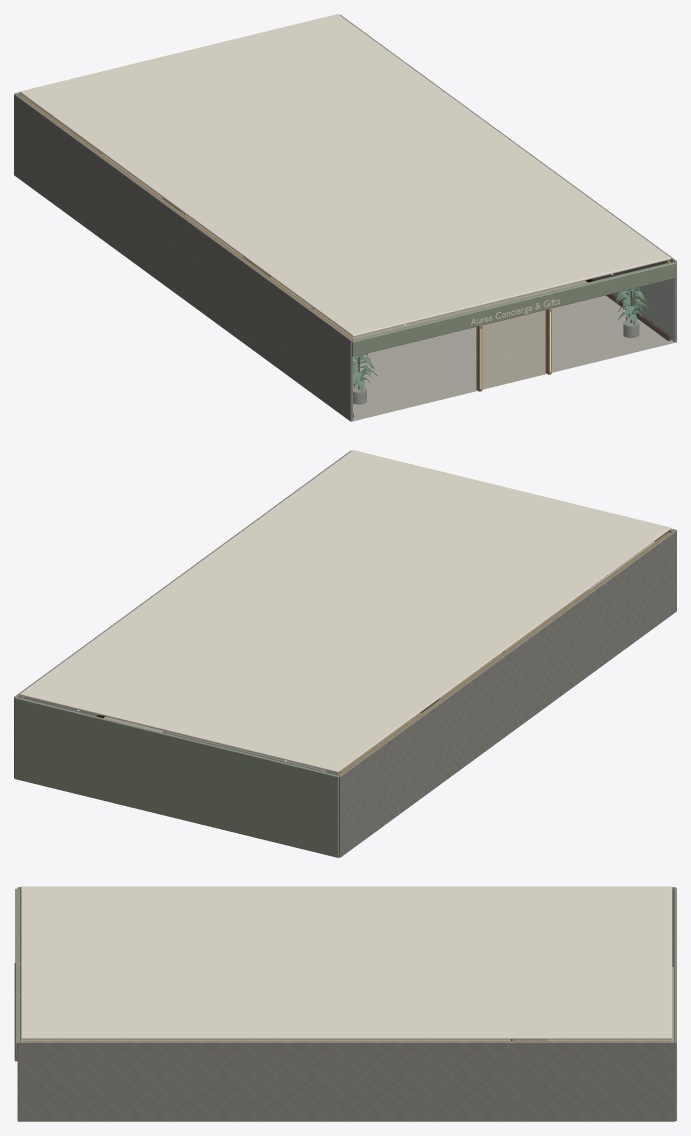
Rendered from concierge.glb.
3 views of the same model, one above another, from view 1: azimuth 30°, elevation 25°; view 2: azimuth 150°, elevation 25°; view 3: azimuth 270°, elevation 25° (orthographic). The views are drawn at different scales.
Parts seen in each view (by area): view 1: Batched AUR-L4-CONCIERGE::Warm porcelain, Batched AUR-L4-CONCIERGE::Travertine, Batched AUR-L4-CONCIERGE::Cream marble, Batched AUR-L4-CONCIERGE::Tenant glass, Batched AUR-L4-CONCIERGE::Tenant concierge, Batched AUR-L4-CONCIERGE::Bronze, Batched AUR-L4-CONCIERGE::Foliage; view 2: Batched AUR-L4-CONCIERGE::Warm porcelain, Batched AUR-L4-CONCIERGE::Travertine, Batched AUR-L4-CONCIERGE::Tenant concierge, Batched AUR-L4-CONCIERGE::Bronze; view 3: Batched AUR-L4-CONCIERGE::Warm porcelain, Batched AUR-L4-CONCIERGE::Travertine, Batched AUR-L4-CONCIERGE::Tenant concierge, Batched AUR-L4-CONCIERGE::Cream marble, Batched AUR-L4-CONCIERGE::Bronze.
Part boxes in pixels (x1,y1,x2,y2): Batched AUR-L4-CONCIERGE::Warm porcelain: (19, 14, 671, 336); Batched AUR-L4-CONCIERGE::Travertine: (14, 14, 676, 421); Batched AUR-L4-CONCIERGE::Cream marble: (102, 154, 675, 421); Batched AUR-L4-CONCIERGE::Tenant glass: (352, 279, 675, 421); Batched AUR-L4-CONCIERGE::Tenant concierge: (14, 92, 676, 356); Batched AUR-L4-CONCIERGE::Bronze: (21, 96, 670, 391); Batched AUR-L4-CONCIERGE::Foliage: (353, 287, 649, 391); Batched AUR-L4-CONCIERGE::Warm porcelain: (19, 450, 671, 772); Batched AUR-L4-CONCIERGE::Travertine: (14, 450, 676, 857); Batched AUR-L4-CONCIERGE::Tenant concierge: (14, 528, 676, 857); Batched AUR-L4-CONCIERGE::Bronze: (20, 532, 669, 775); Batched AUR-L4-CONCIERGE::Warm porcelain: (21, 886, 672, 1039); Batched AUR-L4-CONCIERGE::Travertine: (17, 887, 675, 1121); Batched AUR-L4-CONCIERGE::Tenant concierge: (15, 887, 676, 1120); Batched AUR-L4-CONCIERGE::Cream marble: (21, 967, 673, 1041); Batched AUR-L4-CONCIERGE::Bronze: (14, 963, 669, 1061).
Bounding box in the file's own units: 20.16 × 4.97 × 36.29.
12 materials, 4 textured.
